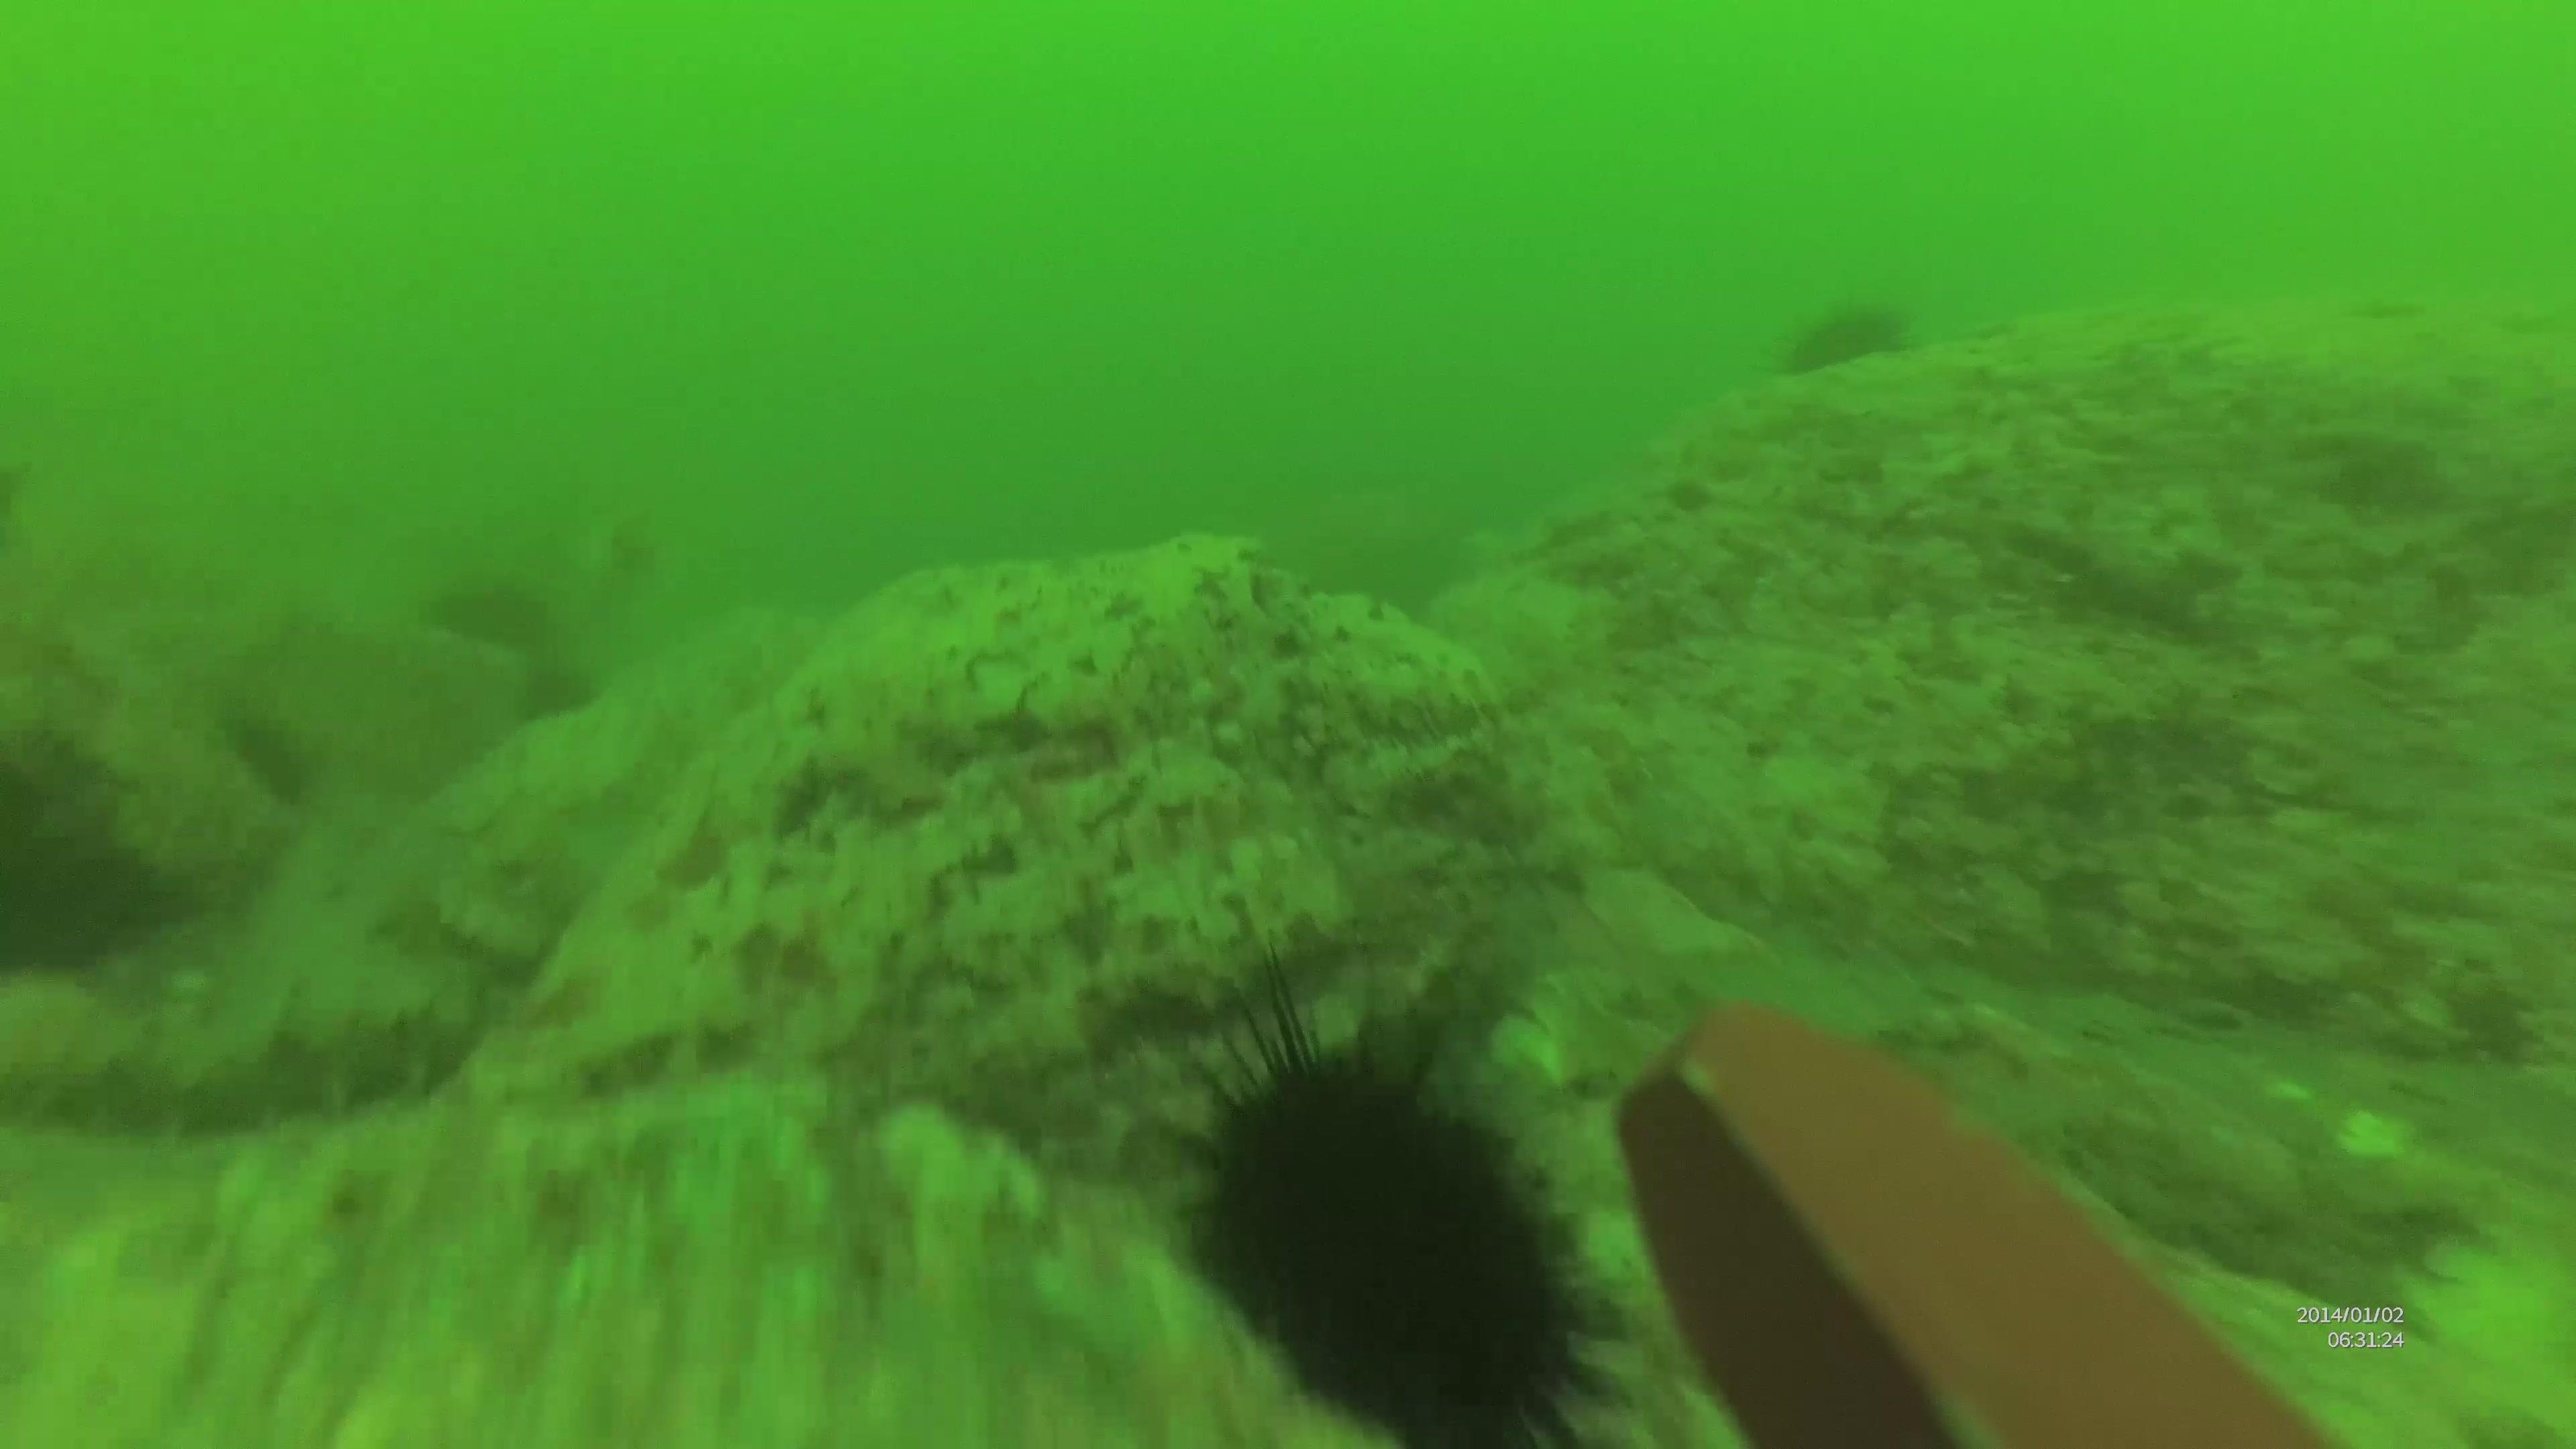echinus: (1143, 955, 1635, 1449), (0, 789, 168, 991), (1776, 304, 1937, 412)
holothurian: (0, 966, 488, 1145)
